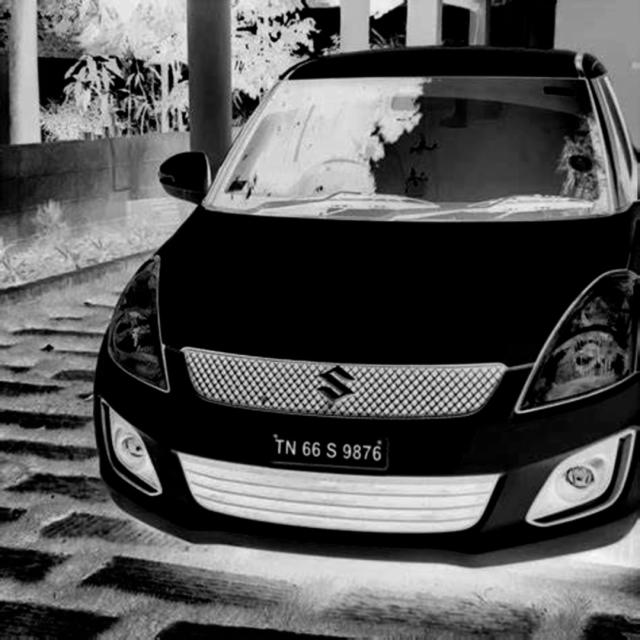Non_registered: (266, 424, 389, 474)
